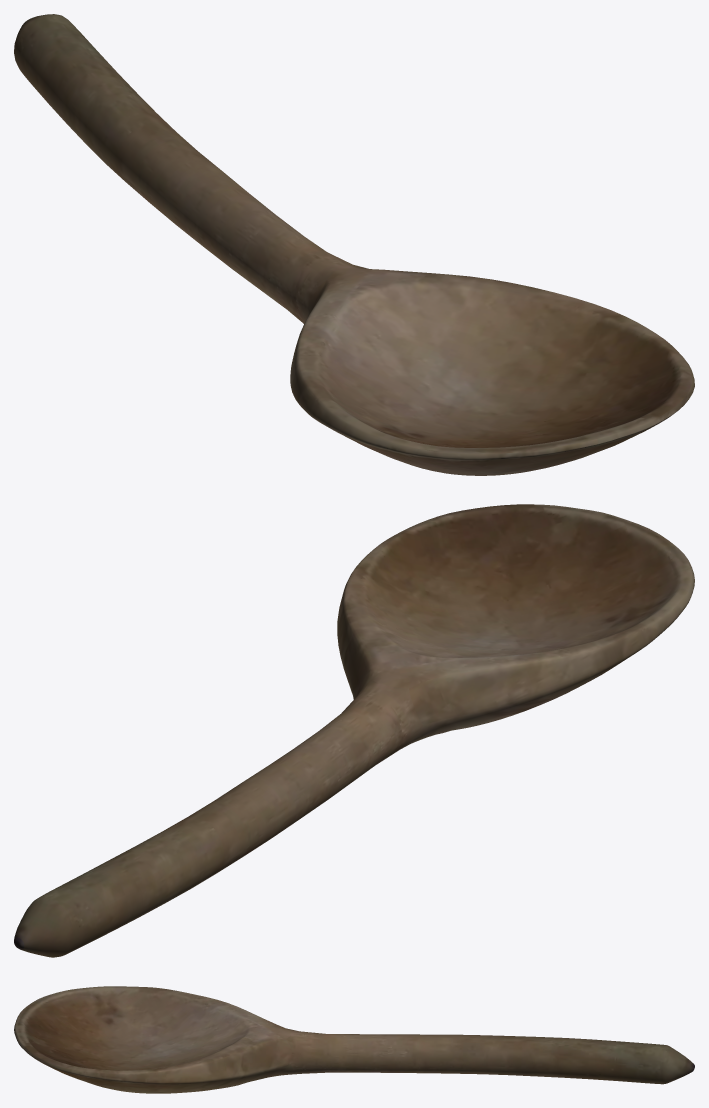
Rendered from wooden_spoon.glb.
3 renders of one model, top to bottom at view 1: azimuth 30°, elevation 25°; view 2: azimuth 150°, elevation 25°; view 3: azimuth 270°, elevation 25°, orthographic. The views are drawn at different scales.
Visible parts, largest first — view 1: wooden_spoon; view 2: wooden_spoon; view 3: wooden_spoon.
Part boxes in pixels (box(x1,y1,x2,y2)): wooden_spoon: box(14, 14, 694, 475); wooden_spoon: box(14, 504, 694, 957); wooden_spoon: box(14, 986, 694, 1093).
Size of the model in its own units: 0.0867 by 0.0251 by 0.2776.
Materials: 1 (1 with a texture image).
